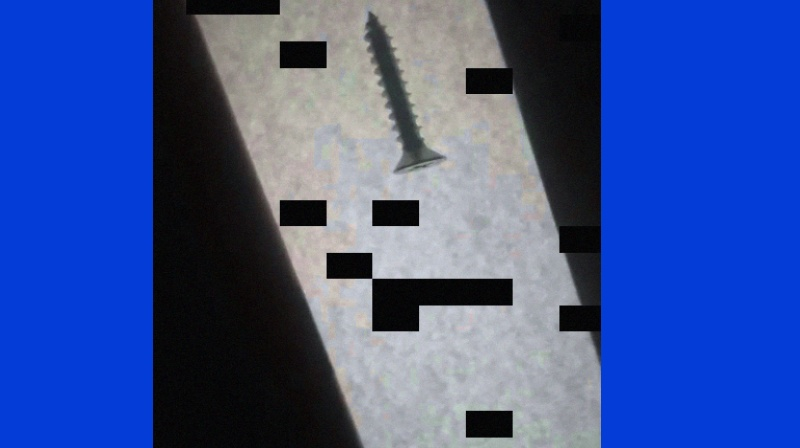S001: (361, 3, 451, 177)
